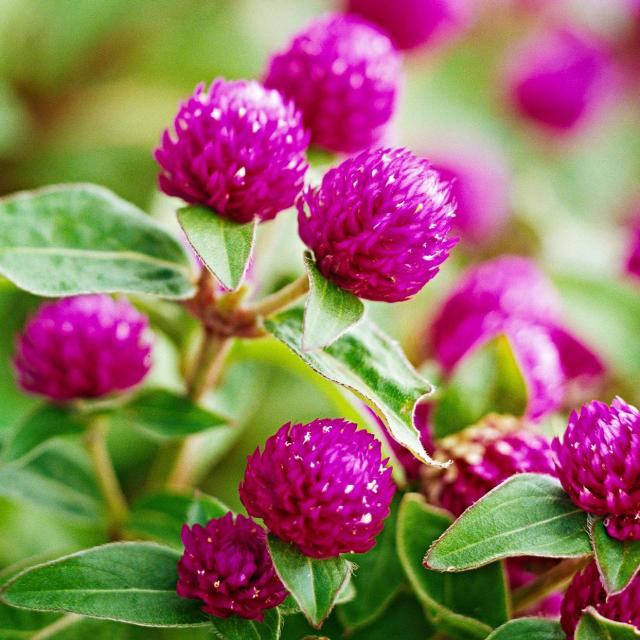organic waste: (278, 140, 460, 314), (150, 53, 311, 223), (251, 409, 397, 544), (24, 258, 165, 388), (537, 376, 640, 516), (281, 23, 415, 128), (162, 521, 288, 621)
